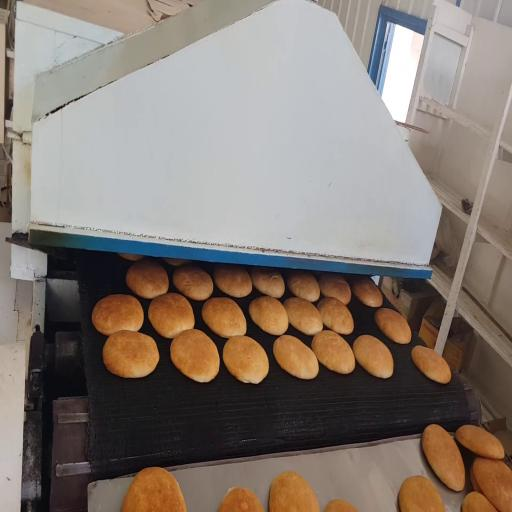bread: (422, 425, 465, 491), (122, 467, 186, 511), (103, 331, 159, 377), (171, 330, 219, 382), (223, 336, 269, 383), (92, 294, 143, 335), (148, 293, 194, 338), (473, 458, 511, 511), (273, 335, 318, 379), (269, 472, 319, 511), (312, 330, 355, 374), (202, 298, 246, 338), (353, 335, 393, 378), (126, 260, 169, 299), (456, 425, 504, 459), (399, 476, 445, 511), (249, 296, 288, 335), (284, 297, 322, 335), (412, 346, 451, 383), (173, 266, 213, 301), (317, 297, 354, 334), (375, 308, 411, 344), (214, 265, 252, 297), (251, 267, 285, 298), (219, 488, 263, 511), (319, 274, 351, 305), (287, 271, 319, 302), (352, 277, 382, 307), (462, 492, 496, 511), (324, 500, 357, 511), (470, 466, 481, 492), (163, 258, 190, 266), (119, 254, 143, 261)
